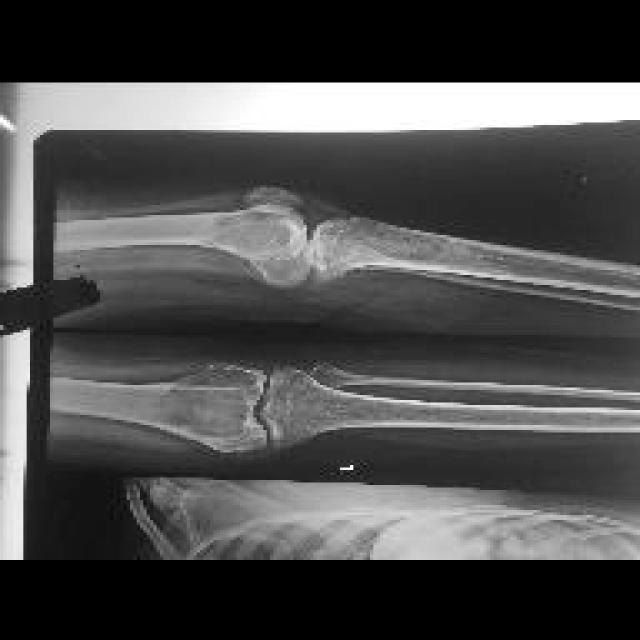bone-cancer: (156, 368, 260, 443), (204, 212, 300, 255)
